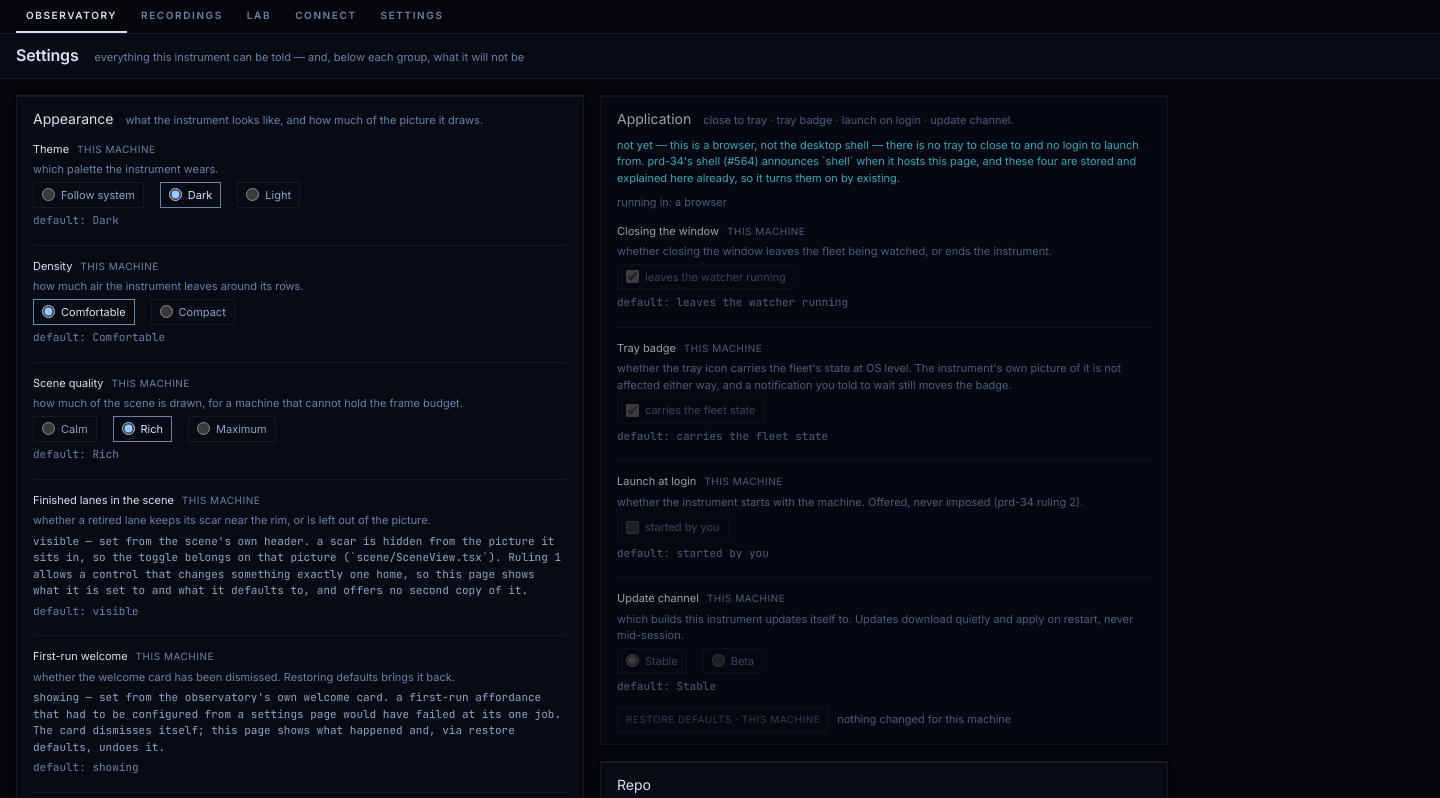
Test: S1 error state — a setting that failed to persist says so, and keeps the value › keeps the chosen value in memory and names what happened, rather than snapping back in silence
Click the radio button with test id "pref-appearance.density-compact".
click(166, 312)  # box 160,305 -> 173,318
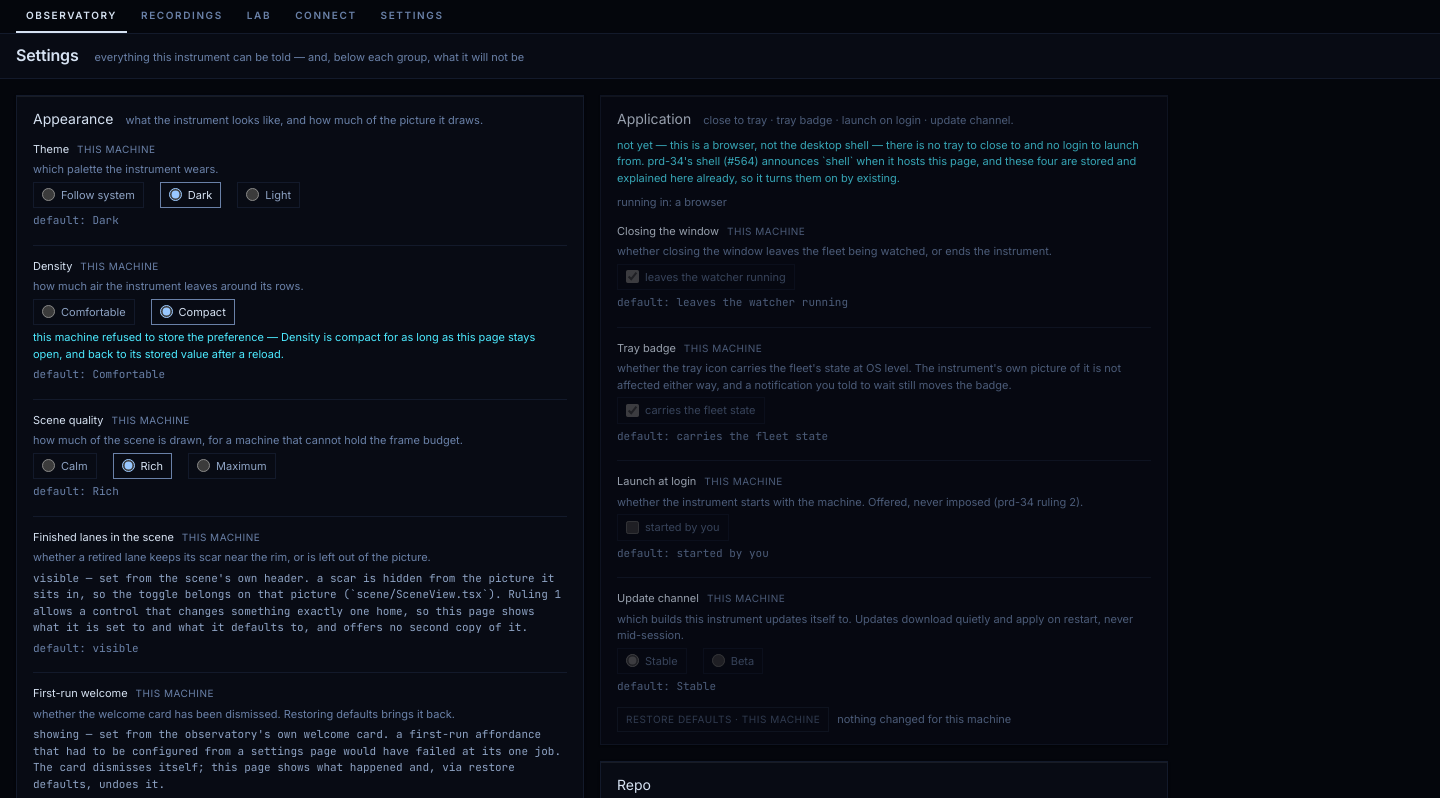
Check: the radio button with test id "pref-appearance.density-compact" is checked, box 160,305 -> 173,318
Check: the text with test id "pref-appearance.density-error" shows "refused to store", box 33,330 -> 281,344
